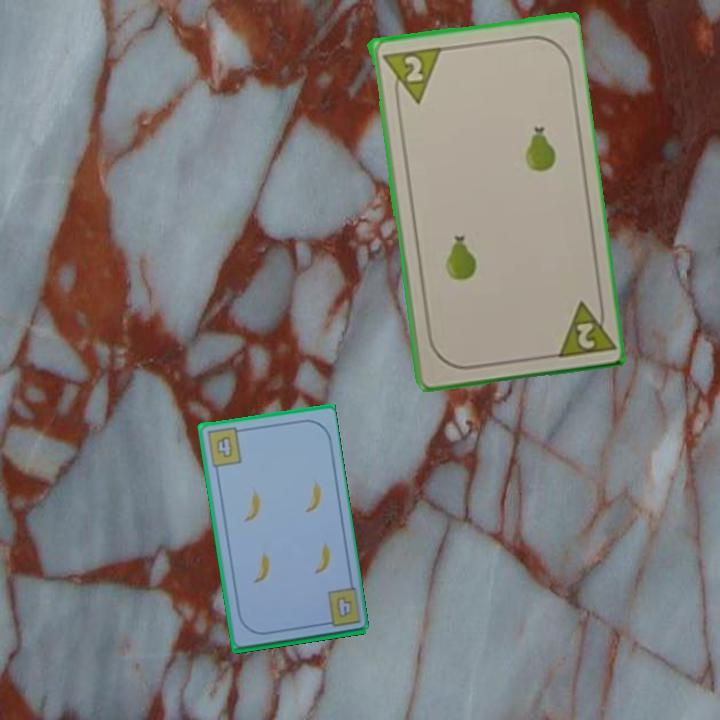2p: (550, 293, 615, 360), (399, 51, 426, 84)
4b: (203, 424, 247, 470), (332, 592, 355, 621)
